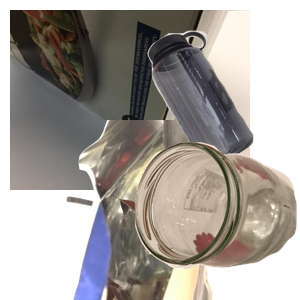cardboard: (10, 10, 250, 190)
glass: (132, 139, 300, 300)
plastic: (145, 28, 300, 192)
trash: (63, 120, 300, 300)
